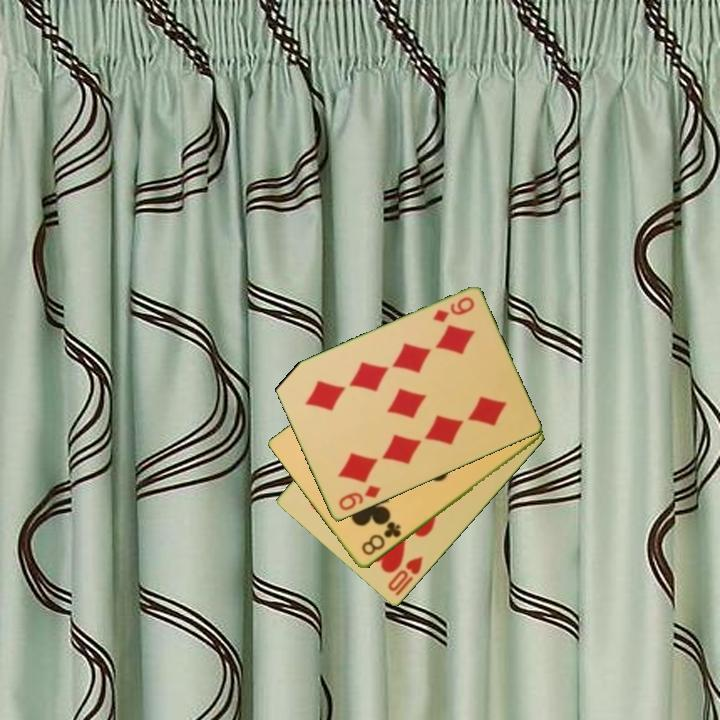10h: (384, 553, 426, 600)
8c: (358, 518, 404, 559)
9d: (429, 293, 477, 326), (335, 482, 384, 514)
